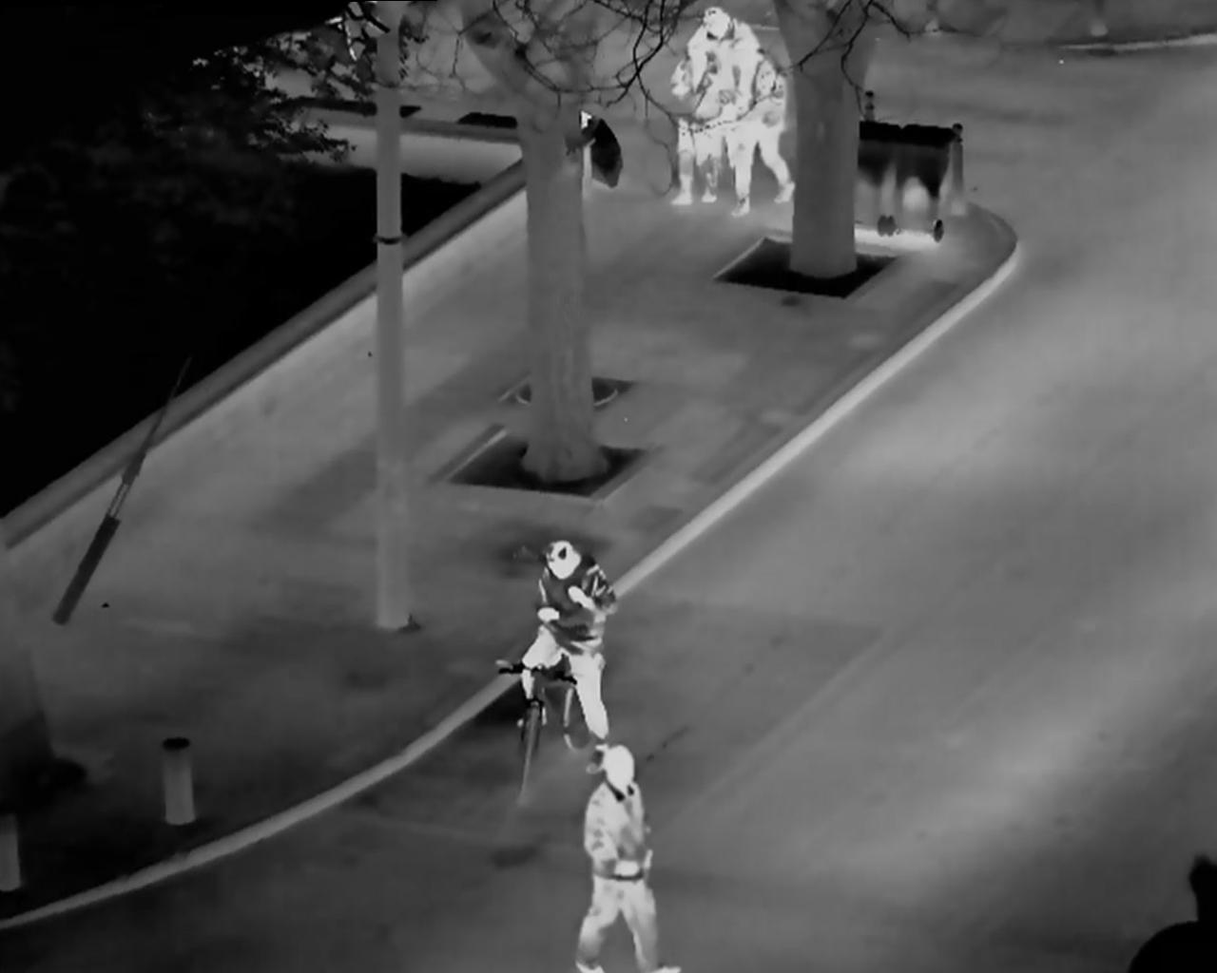person: (565, 731, 673, 969), (508, 534, 626, 749), (680, 3, 760, 205), (722, 35, 792, 219), (667, 46, 724, 207)
